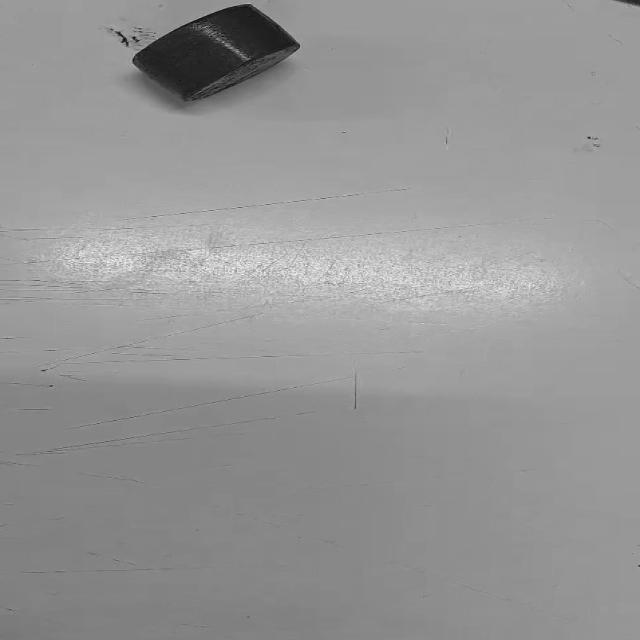rcircle: (133, 4, 299, 101)
